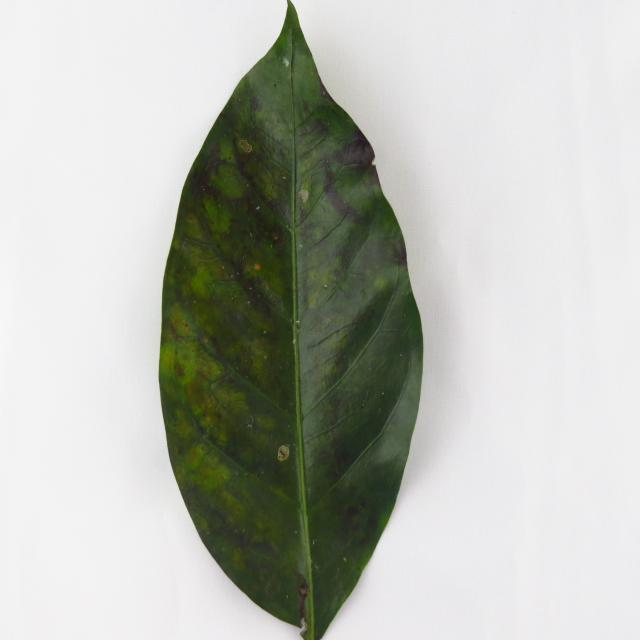DeficienciaNutricional-Magnesio: (159, 3, 422, 638)
